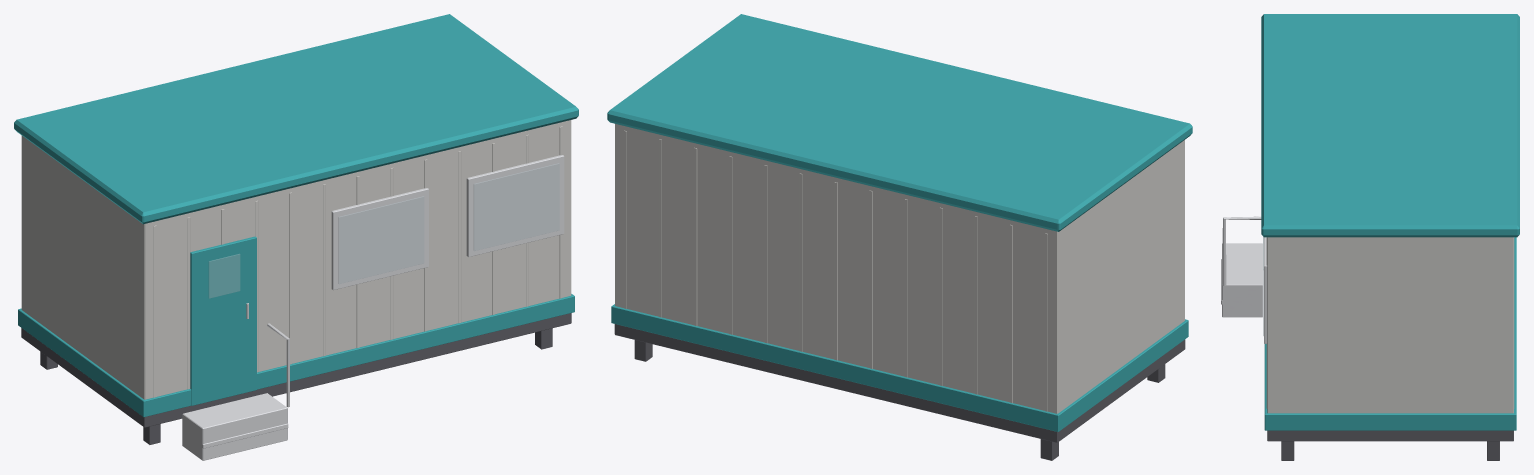
The model's file is motorway-services-and-truck-park-staff-cabin-fb37269e__35976.glb.
3 views of the same model, side by side, from view 1: azimuth 30°, elevation 25°; view 2: azimuth 150°, elevation 25°; view 3: azimuth 270°, elevation 25° (orthographic). The views are drawn at different scales.
Visible parts, largest first — view 1: staff-cabin; view 2: staff-cabin; view 3: staff-cabin.
Part boxes in pixels (<box>): staff-cabin: <box>14,14,578,460</box>; staff-cabin: <box>607,14,1192,460</box>; staff-cabin: <box>1221,14,1519,460</box>.
Size of the model in its own units: 6.14 by 3.26 by 3.63.
